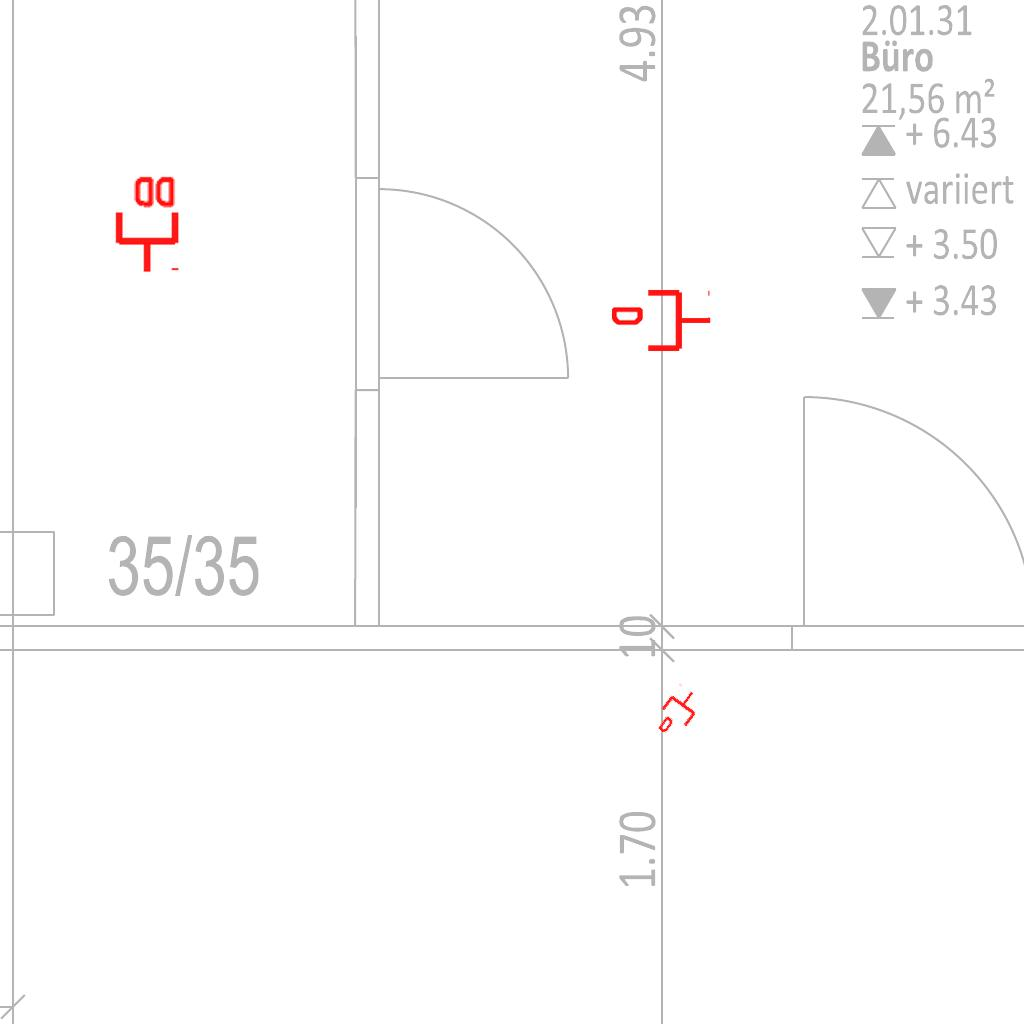Datenanschluss_einfach: (612, 286, 712, 355), (649, 681, 707, 743)
Datenanschluss_zweifach: (111, 172, 180, 275)
